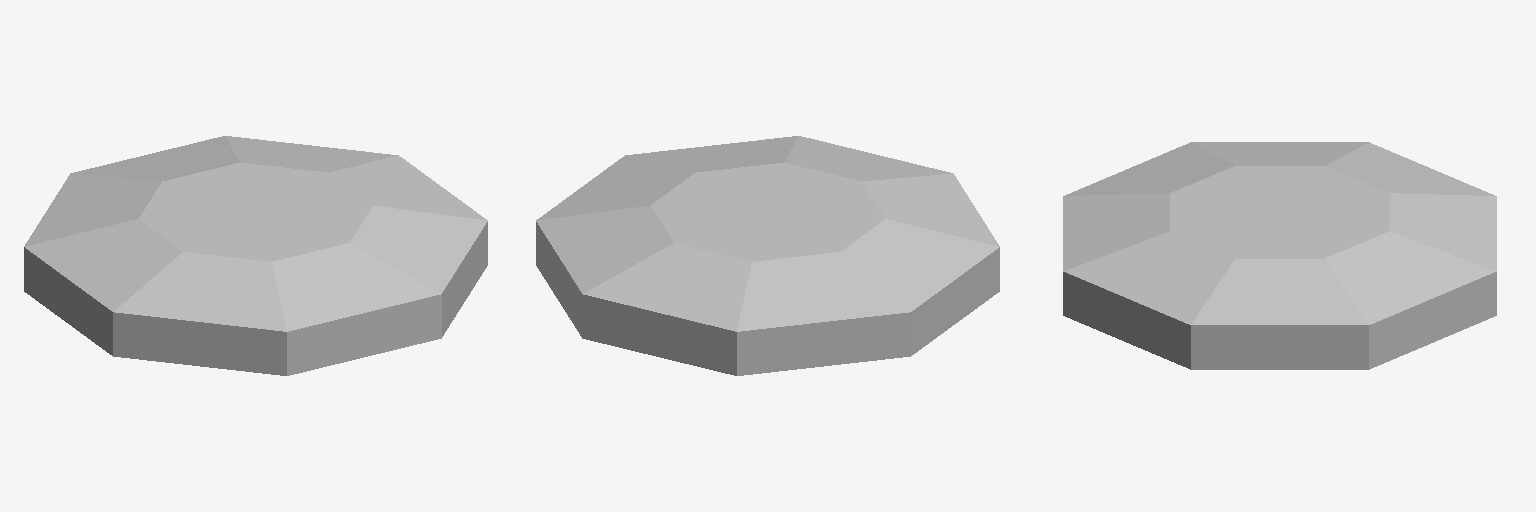
File: sapphire.obj
The picture shows the model from 3 angles: view 1: azimuth 30°, elevation 25°; view 2: azimuth 150°, elevation 25°; view 3: azimuth 270°, elevation 25°; orthographic projection.
Visible parts, largest first — view 1: Cube; view 2: Cube; view 3: Cube.
Part boxes in pixels (x1,y1,x2,y2): Cube: (24, 136, 487, 375); Cube: (536, 136, 999, 375); Cube: (1063, 142, 1496, 369).
Size of the model in its own units: 2 by 0.4463 by 2.